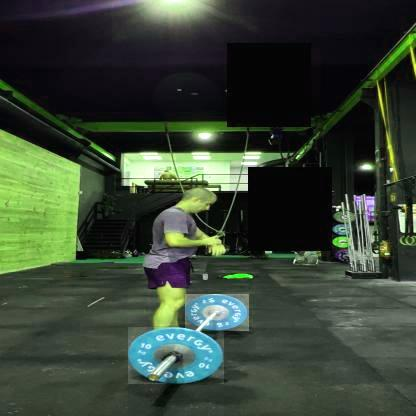barbell: (128, 328, 224, 385), (186, 295, 250, 332)
